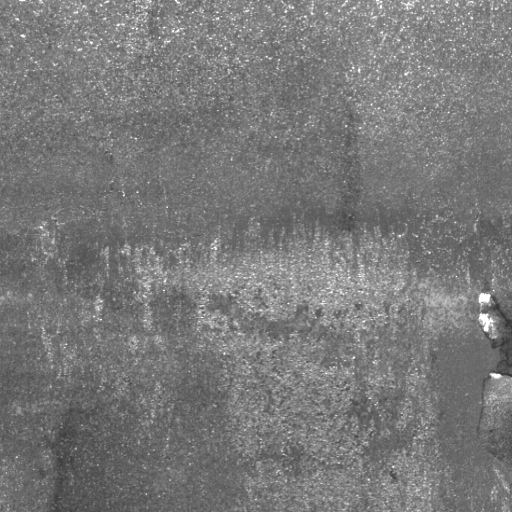aokeng: (476, 288, 510, 477)
